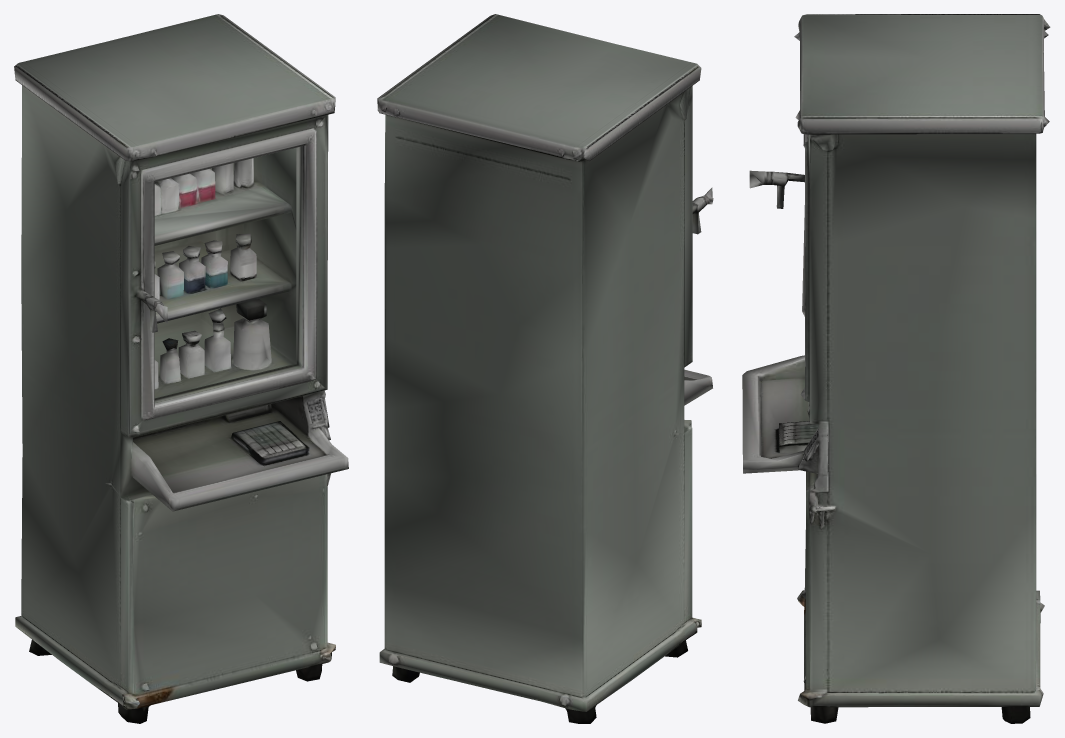
The model's file is med_dispenser.glb.
3 views of the same model, side by side, from view 1: azimuth 30°, elevation 25°; view 2: azimuth 150°, elevation 25°; view 3: azimuth 270°, elevation 25° (orthographic). The views are drawn at different scales.
Visible parts, largest first — view 1: Model; view 2: Model; view 3: Model.
Boxes of the visible parts, x1,y1,x2,y2 form: Model: [14, 14, 348, 723]; Model: [377, 14, 713, 723]; Model: [742, 14, 1050, 723].
Bounding box in the file's own units: 0.7673 × 2 × 0.9178.
1 material, 1 textured.
